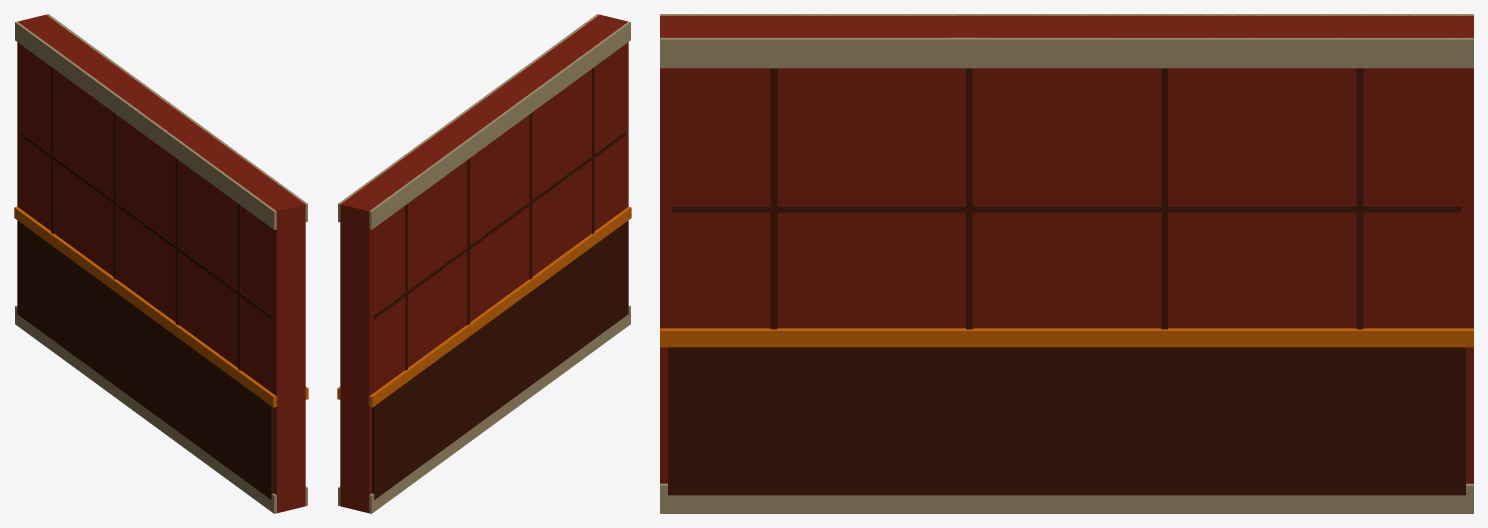
File: panel_outer_wall_low.fbx
3 views of the same model, side by side, from view 1: azimuth 30°, elevation 25°; view 2: azimuth 150°, elevation 25°; view 3: azimuth 270°, elevation 25° (orthographic). The views are drawn at different scales.
Visible parts, largest first — view 1: Part_0; view 2: Part_0; view 3: Part_0.
Boxes of the visible parts, x1=… form: Part_0: x1=14, y1=14, x2=308, y2=513; Part_0: x1=337, y1=14, x2=631, y2=513; Part_0: x1=660, y1=14, x2=1473, y2=513.
Size of the model in its own units: 0.55 by 4.5 by 7.
